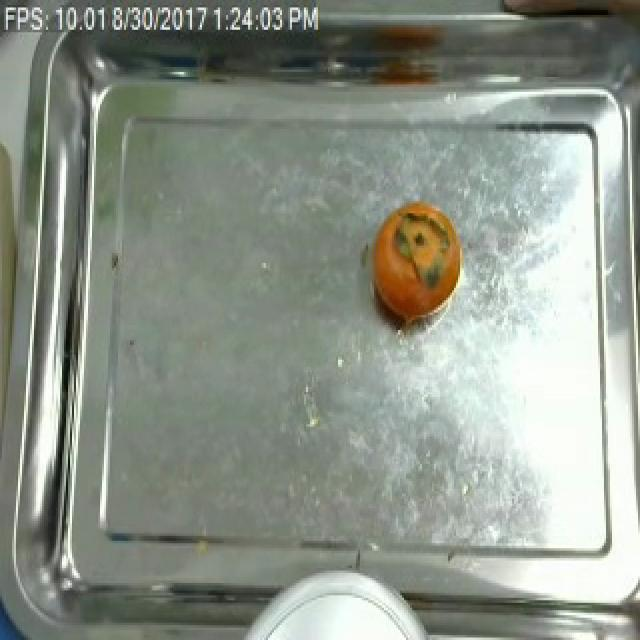Fruit: (368, 196, 466, 322)
